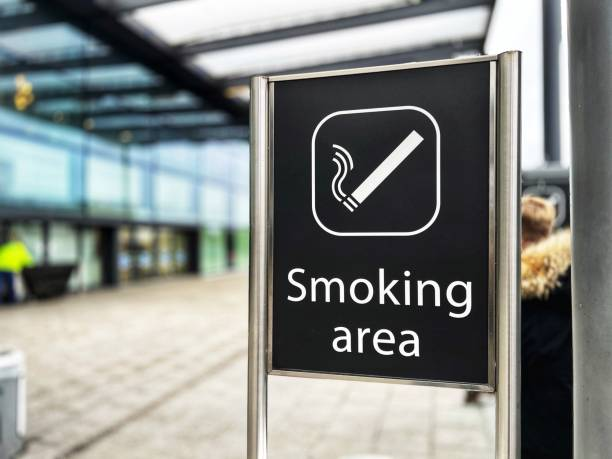cigarette: (342, 131, 426, 212)
